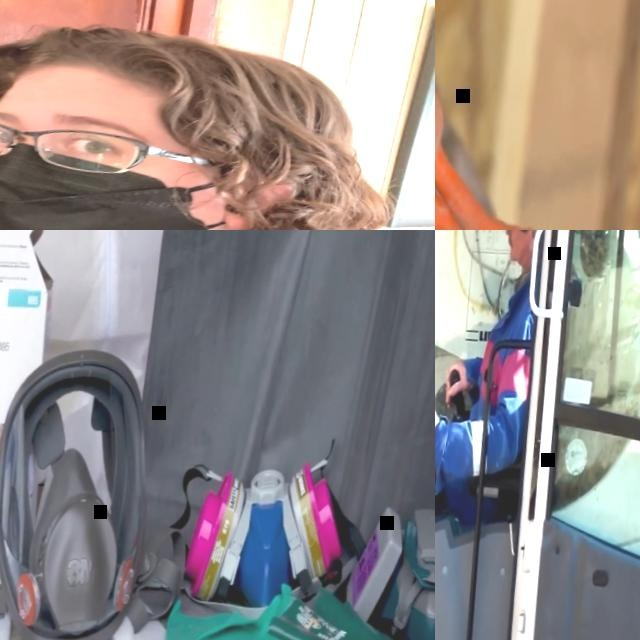Mask: (0, 338, 161, 640), (184, 450, 353, 616), (0, 139, 240, 230), (339, 483, 435, 640)
NO-Hardhat: (0, 14, 348, 140)
NO-Mask: (507, 236, 531, 265)
Person: (0, 2, 435, 230), (435, 230, 555, 640), (435, 0, 614, 230)
Safety Vest: (463, 290, 539, 484)
machinery: (435, 230, 640, 640)
